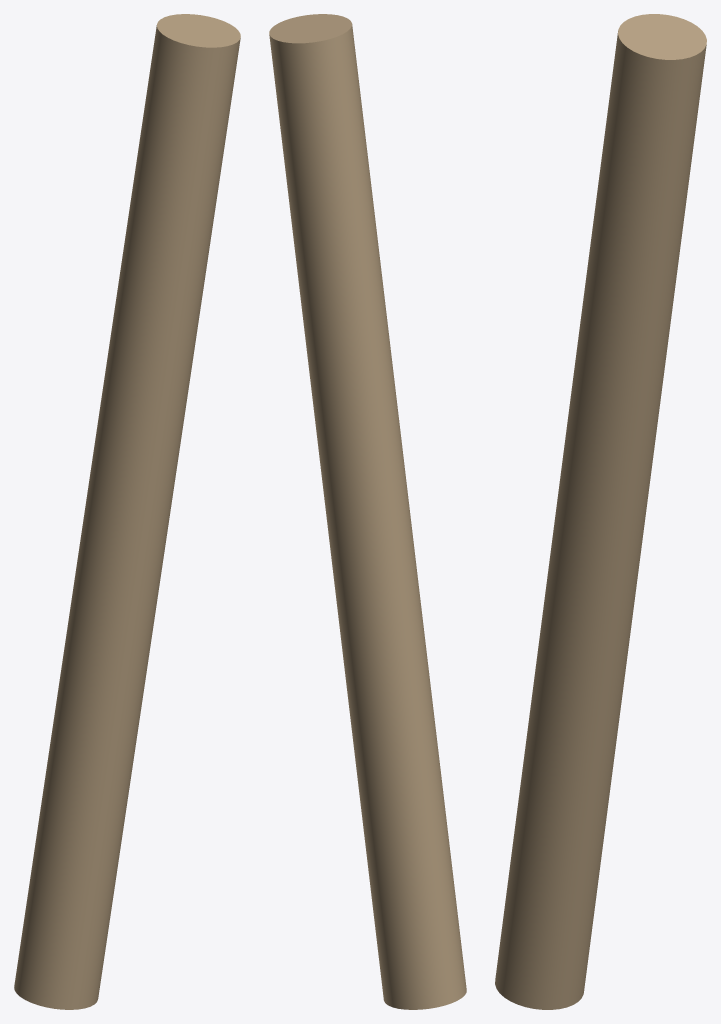
The model's file is map.fbx.
The picture shows the model from 3 angles, left to right: view 1: azimuth 30°, elevation 25°; view 2: azimuth 150°, elevation 25°; view 3: azimuth 330°, elevation 25°; orthographic projection. The views are drawn at different scales.
Parts seen in each view (by area): view 1: Cylinder.010; view 2: Cylinder.010; view 3: Cylinder.010.
Part boxes in pixels (x1=…): Cylinder.010: x1=14, y1=14, x2=240, y2=1009; Cylinder.010: x1=269, y1=14, x2=466, y2=1009; Cylinder.010: x1=495, y1=14, x2=706, y2=1009.
Bounding box in the file's own units: 91.45 × 411 × 43.51.
